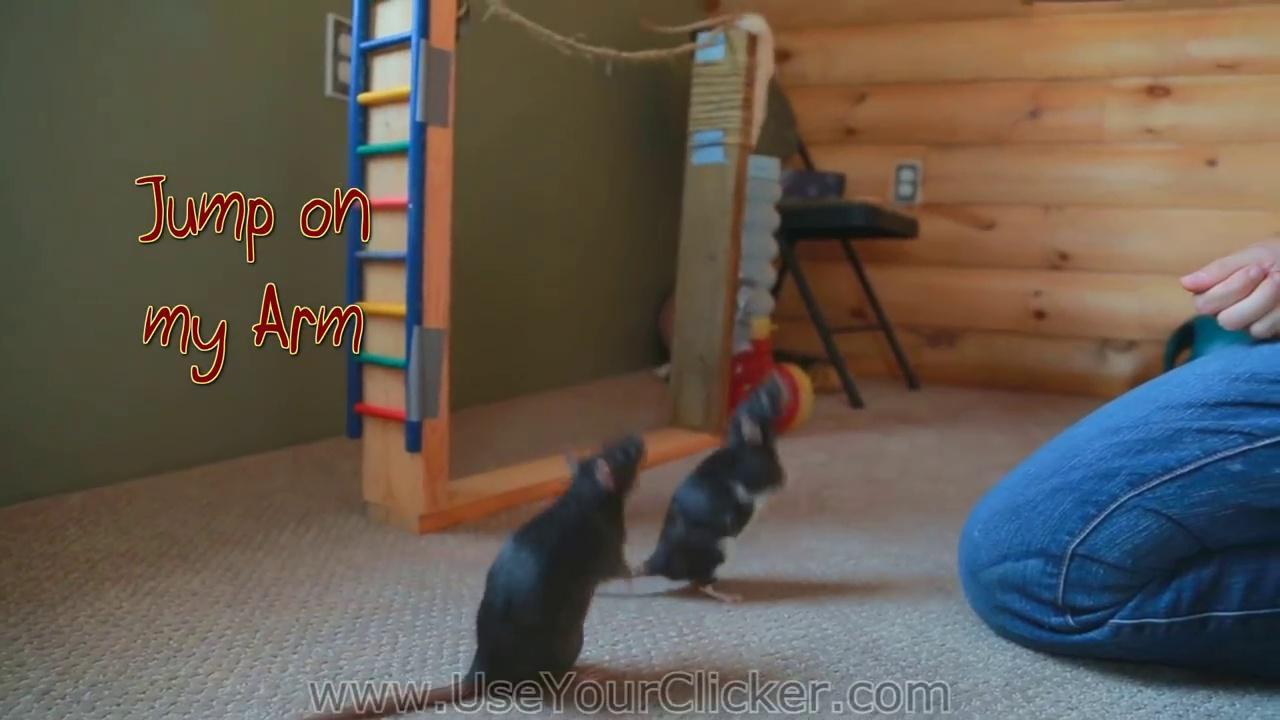rat: (302, 434, 646, 720), (631, 415, 788, 602)
